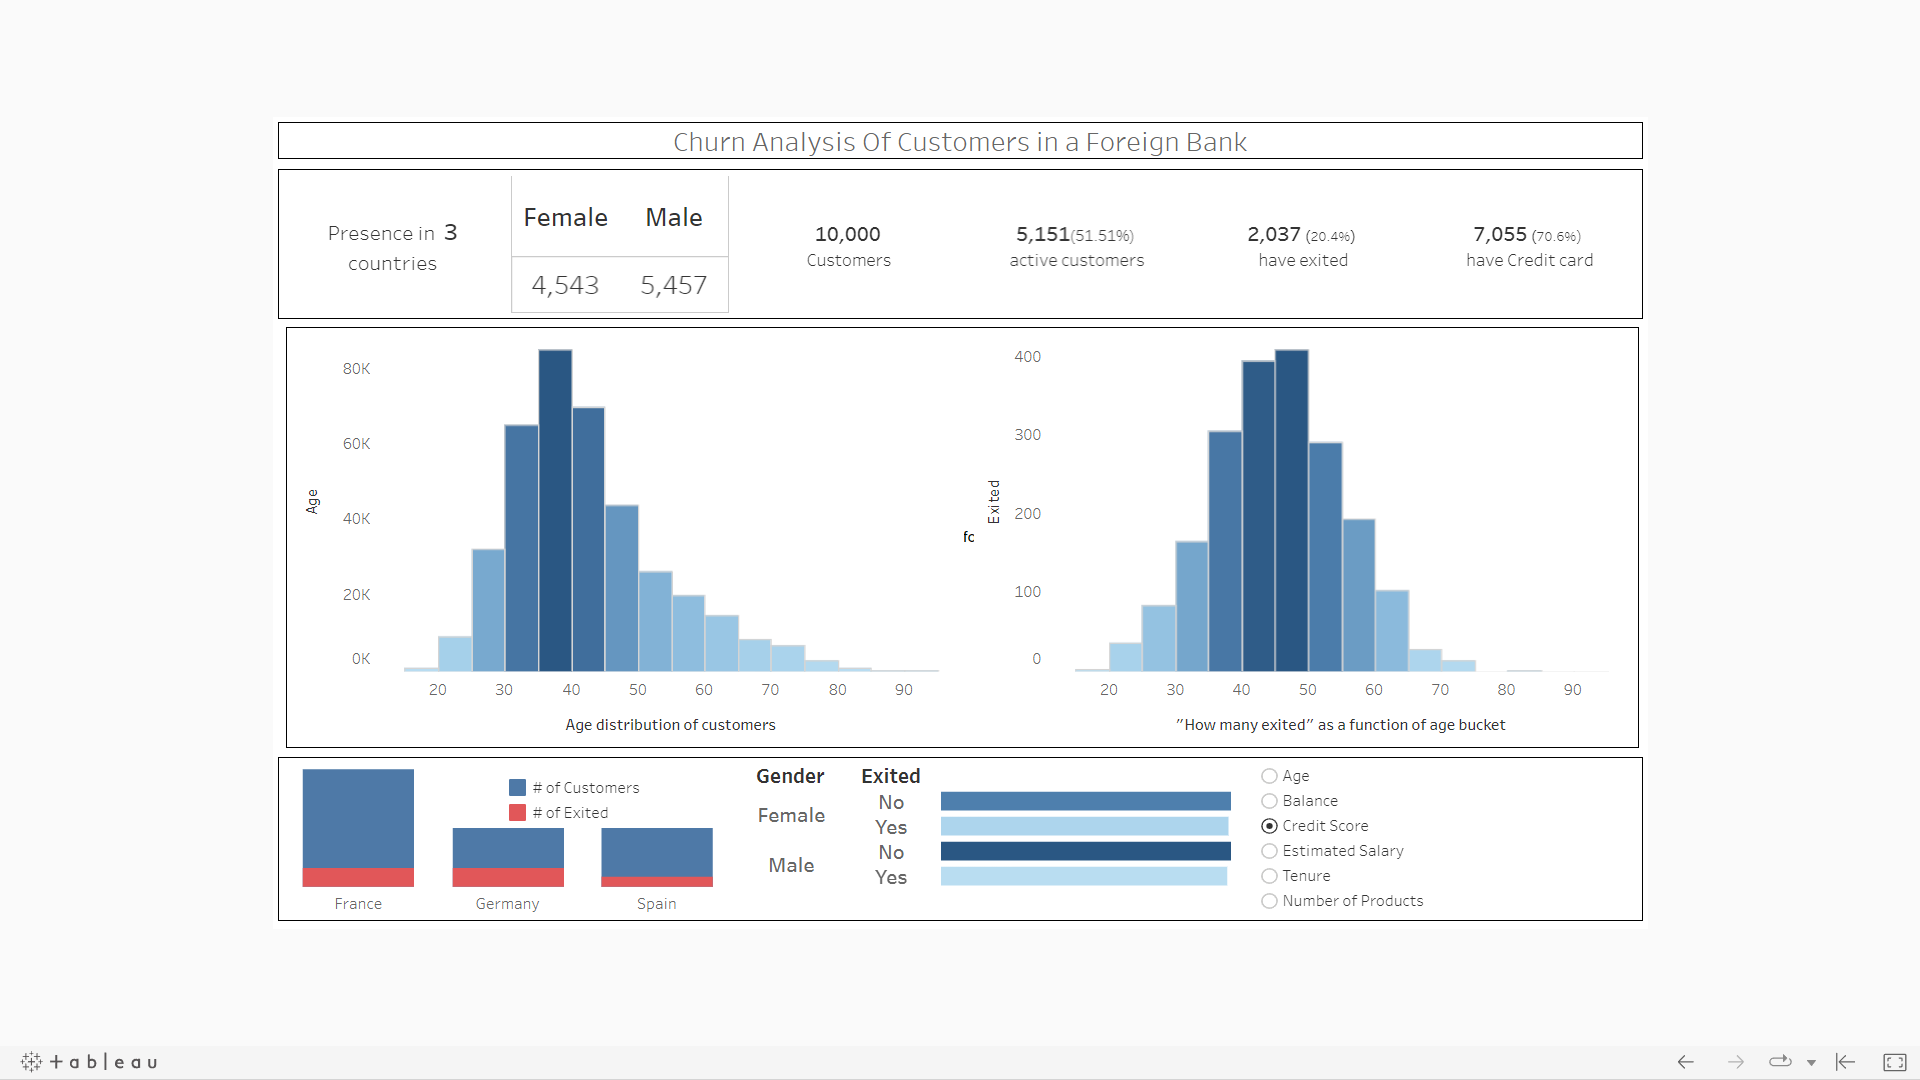

The dashboard page shown, as its layout file describes it:
{"tool":"tableau","page":{"name":"Dashboard 1","canvas":[1100,650],"ordinal":0},"visuals":[{"type":"text","box":[0,0,1100,38]},{"type":"worksheet","title":"# of countries","mark":"Automatic","box":[5,43,182,118]},{"type":"worksheet","title":"Gender","mark":"Automatic","cols":["Gender"],"box":[187,43,182,118]},{"type":"worksheet","title":"Customers","mark":"Automatic","box":[369,43,182,118]},{"type":"worksheet","title":"Active customers","mark":"Automatic","box":[551,43,182,118]},{"type":"worksheet","title":"exited  customers ","mark":"Automatic","box":[733,43,181,118]},{"type":"worksheet","title":"Credit card","mark":"Automatic","box":[914,43,181,118]},{"type":"worksheet","title":"Age wise","mark":"Automatic","rows":["Age"],"cols":["Age (bin)"],"box":[12,169,545,335]},{"type":"worksheet","title":"Exited vs age","mark":"Automatic","rows":["Exited"],"cols":["Age (bin)"],"box":[557,169,535,335]},{"type":"worksheet","box":[0,325,1100,325]},{"type":"worksheet","title":"Exited country wise","mark":"Bar","rows":["ChurnAnalysisData_51BE9C0CF510447EA886F9E47D882F68","Exited"],"cols":["Geography"],"box":[5,513,366,129]},{"type":"worksheet","title":"Gender wise exited","mark":"Automatic","rows":["Gender","Exited"],"cols":["Calculation_878201944899014657"],"box":[371,513,412,129]},{"type":"parameter","param":"[Parameters].[Parameter 1]","box":[783,513,312,129]},{"type":"legend","title":"Exited country wise","param":"[federated.0fxd9ov0lvobej0zmb3kq00man53].[:Measure Names]","box":[186,527,193,58]}]}

Visuals, with their boxes on the page's 1100x650 design canvas (x1, y1, x2, y2). These are canvas units, not pixel positions in the 1920x1080 screenshot, which may show the page scaled, cropped or inside an application window:
text: (0,0,1100,38)
"# of countries" worksheet: (5,43,187,161)
"Gender" worksheet: (187,43,369,161)
"Customers" worksheet: (369,43,551,161)
"Active customers" worksheet: (551,43,733,161)
"exited  customers " worksheet: (733,43,914,161)
"Credit card" worksheet: (914,43,1095,161)
"Age wise" worksheet: (12,169,557,504)
"Exited vs age" worksheet: (557,169,1092,504)
worksheet: (0,325,1100,650)
"Exited country wise" worksheet (Bar marks): (5,513,371,642)
"Gender wise exited" worksheet: (371,513,783,642)
parameter: (783,513,1095,642)
"Exited country wise" legend: (186,527,379,585)
